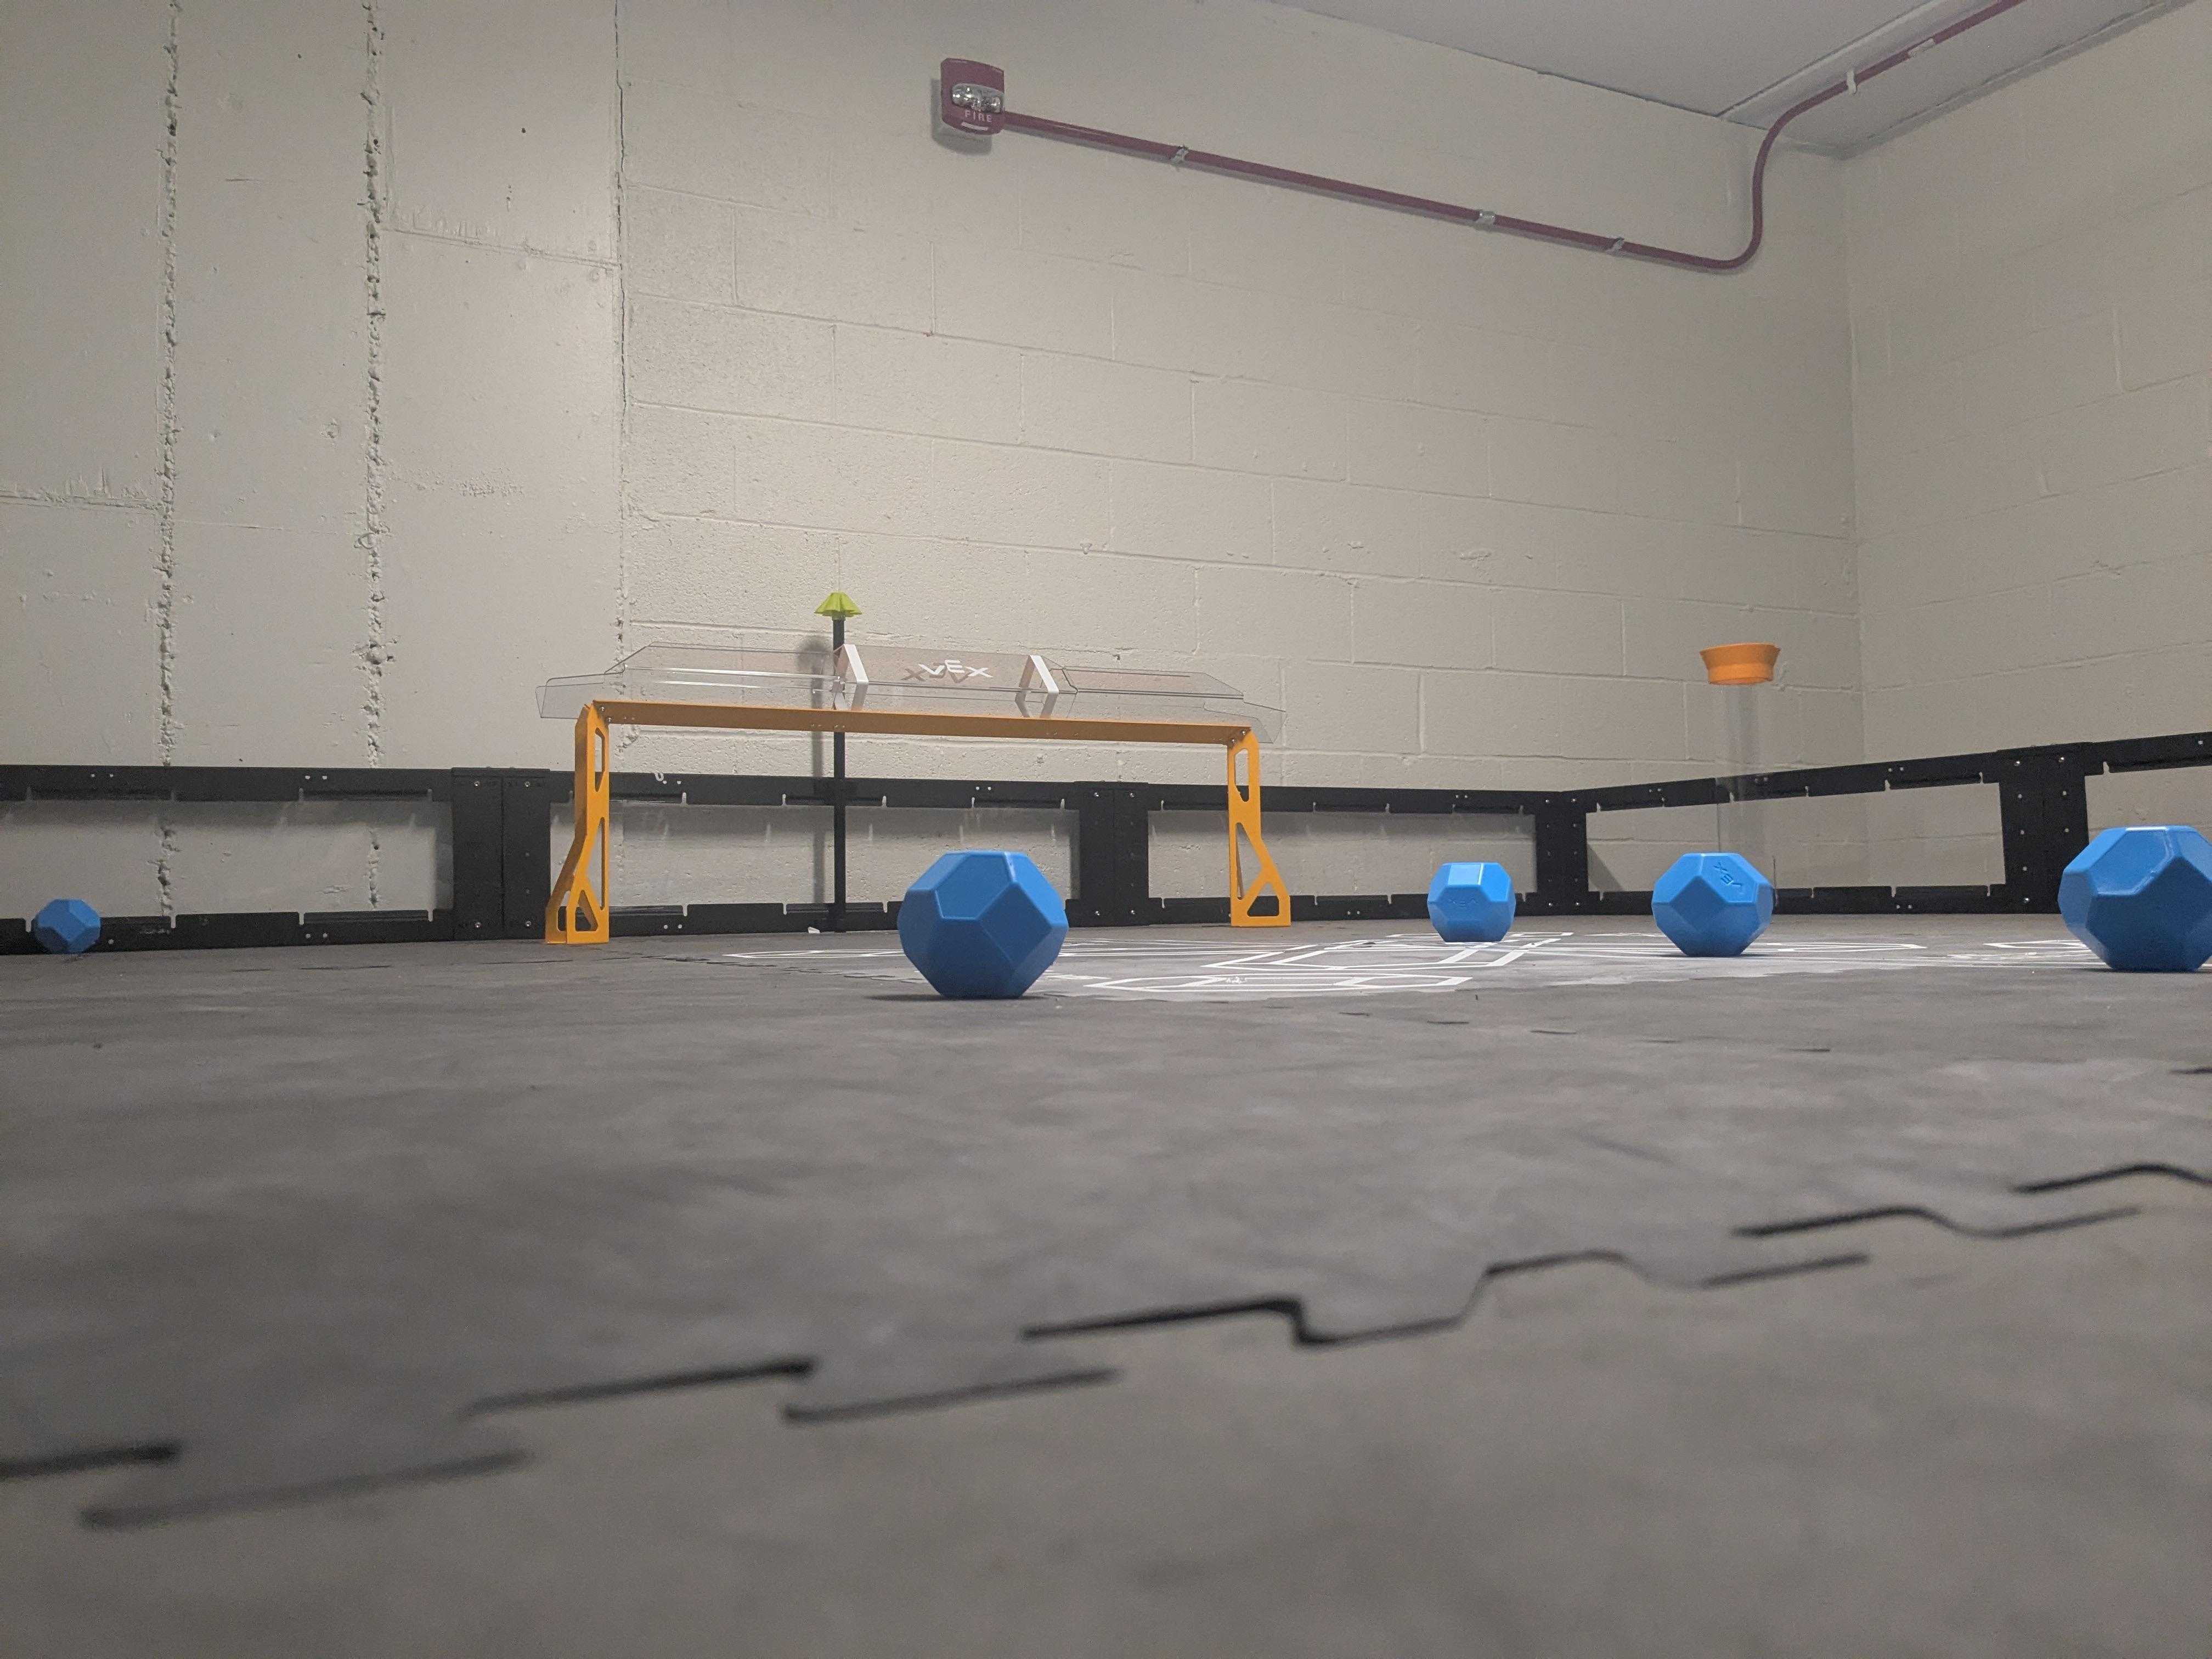Vex-Pieces-BLUE: (894, 850, 1064, 995), (2059, 826, 2207, 972), (1651, 852, 1773, 951), (1426, 863, 1517, 941), (30, 899, 101, 953)
